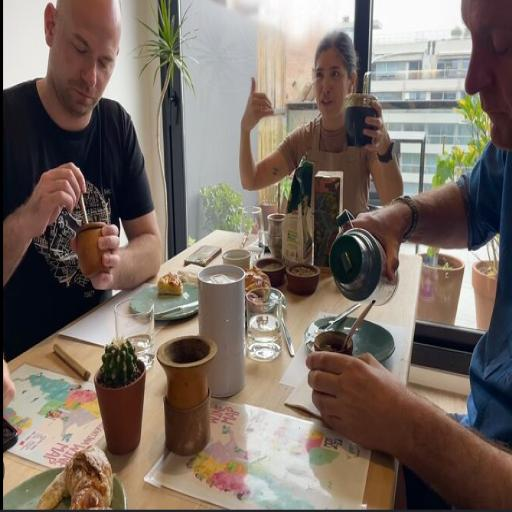bolleria: (37, 446, 113, 509)
mate: (157, 335, 217, 455), (346, 94, 377, 147)
termo: (336, 228, 399, 304)
